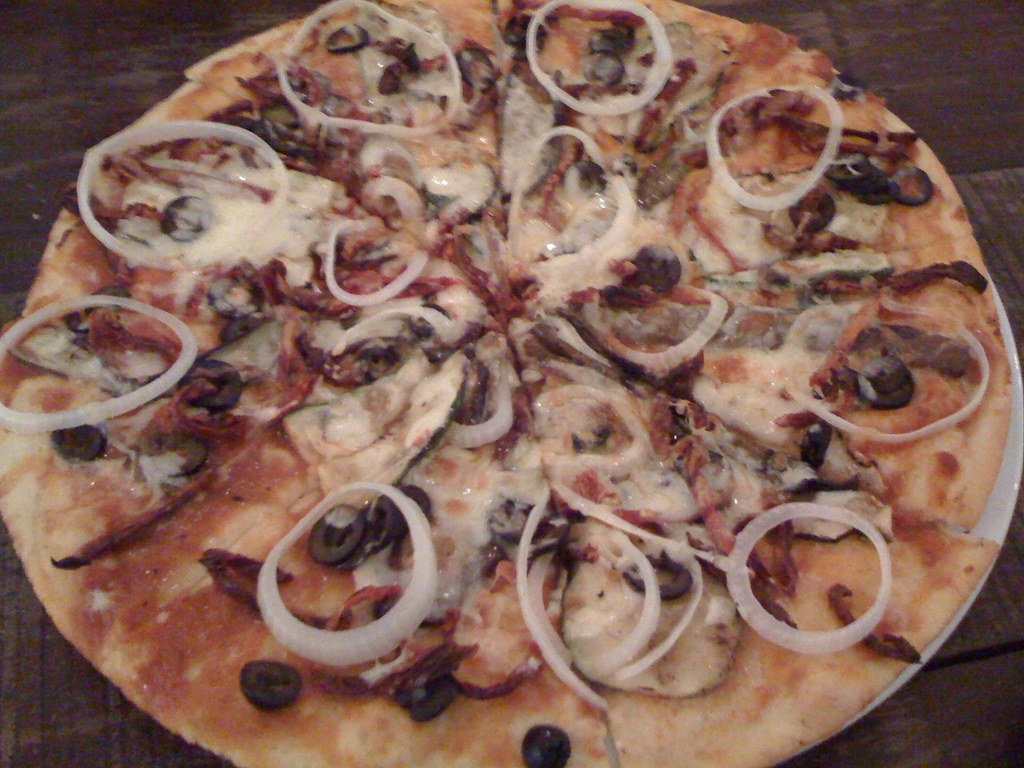Pizza: (0, 0, 1013, 767)
